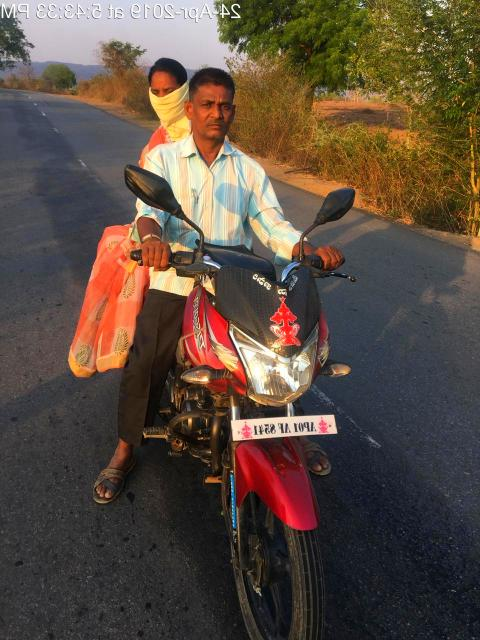motor: (116, 162, 363, 640)
non-helm: (183, 66, 237, 154), (149, 57, 190, 124)
